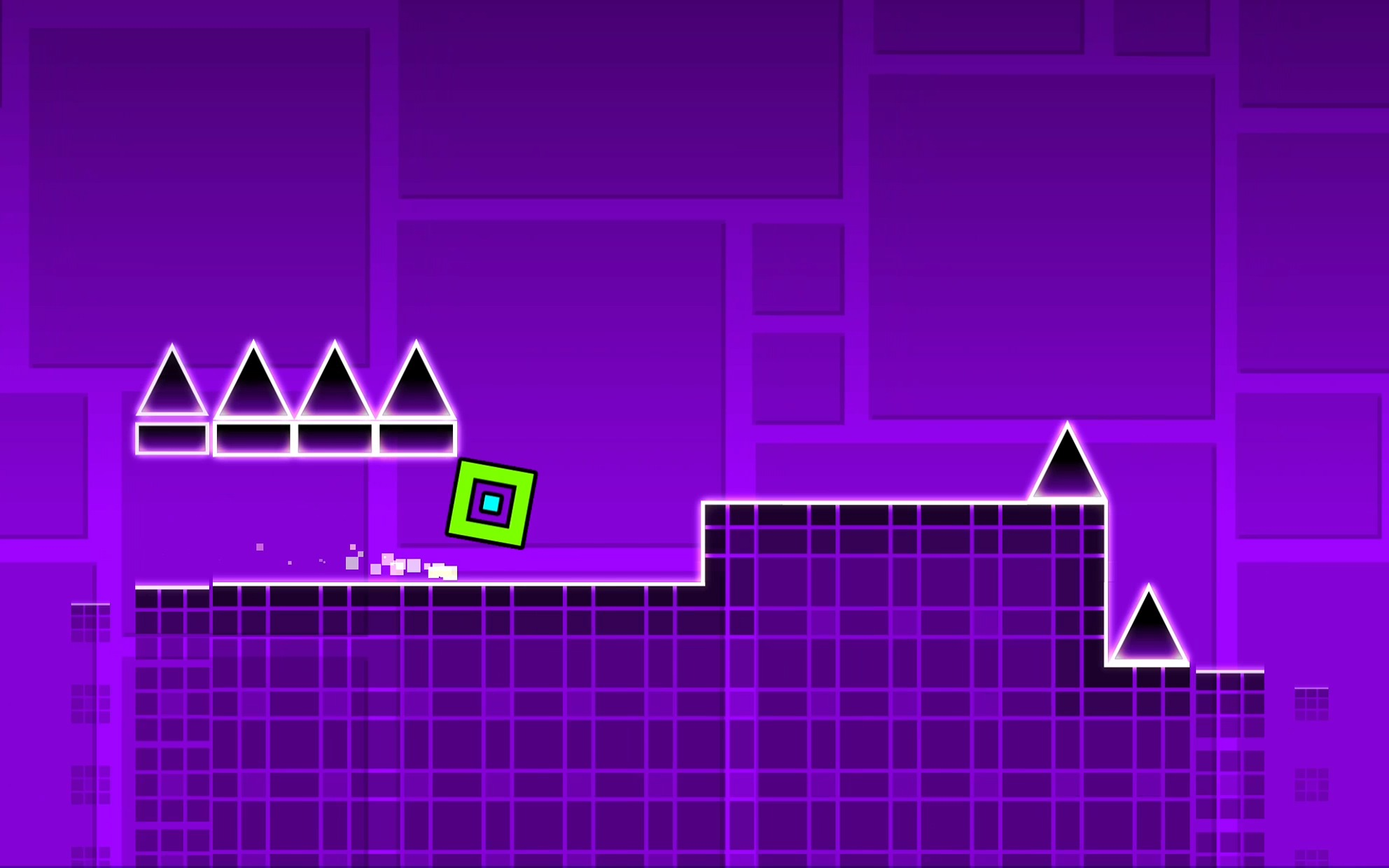Block2: (137, 583, 704, 868), (704, 500, 1096, 868), (1095, 664, 1327, 868)
Block3: (293, 422, 383, 458), (213, 423, 291, 463), (378, 420, 451, 458), (135, 421, 211, 454)
Player: (446, 459, 536, 547)
Spike: (1111, 584, 1187, 665), (1028, 423, 1105, 501), (378, 341, 454, 418), (216, 341, 291, 418), (297, 340, 370, 416), (136, 344, 208, 415)
